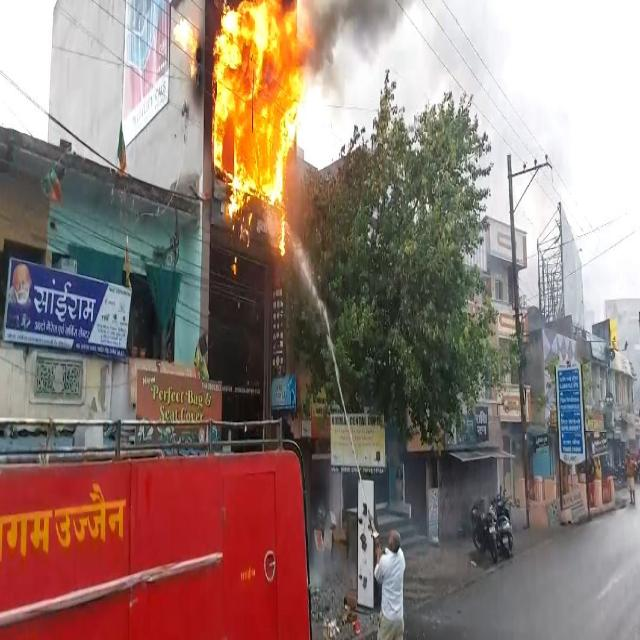fire: (211, 0, 313, 255), (172, 19, 200, 82)
